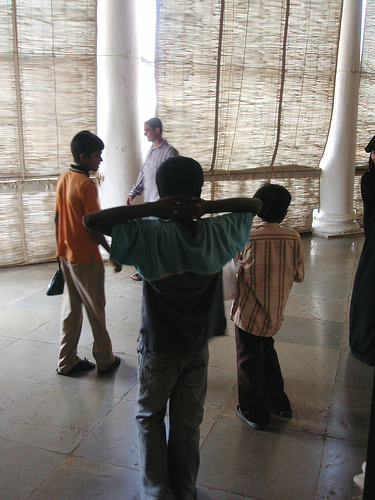without_mask: (75, 138, 106, 175), (142, 118, 165, 145)
